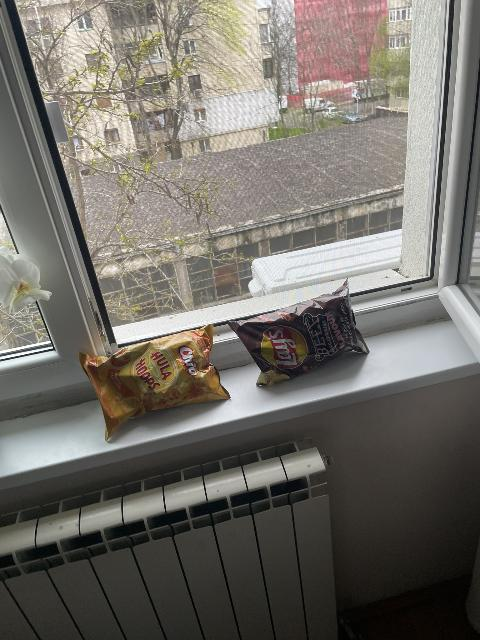Chio Hula Hoops Cheese 70g: (79, 326, 228, 440)
Lays Beef Grilled Ribs 125g: (228, 282, 368, 389)
